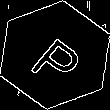P_NE: (23, 23, 87, 87)
